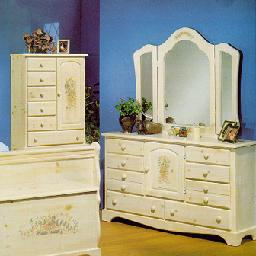Armario: (14, 53, 85, 144)
Cama: (5, 147, 105, 254)
